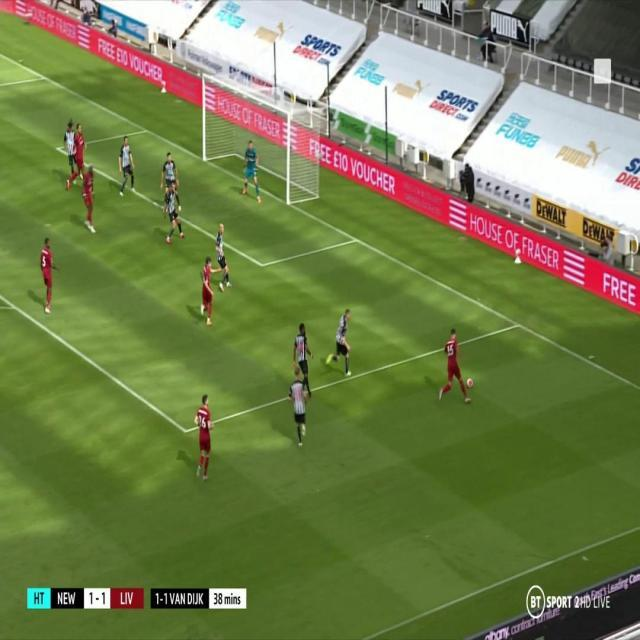ball: (466, 378, 475, 390)
goalkeeper: (242, 137, 262, 208)
player: (437, 325, 472, 408), (325, 307, 355, 381), (191, 393, 213, 482), (286, 369, 310, 448), (37, 237, 59, 320), (291, 322, 313, 397), (66, 124, 88, 189), (214, 222, 233, 295), (198, 254, 216, 327), (161, 151, 182, 213), (116, 134, 136, 199), (163, 184, 185, 242), (82, 164, 98, 235), (63, 118, 76, 186)
